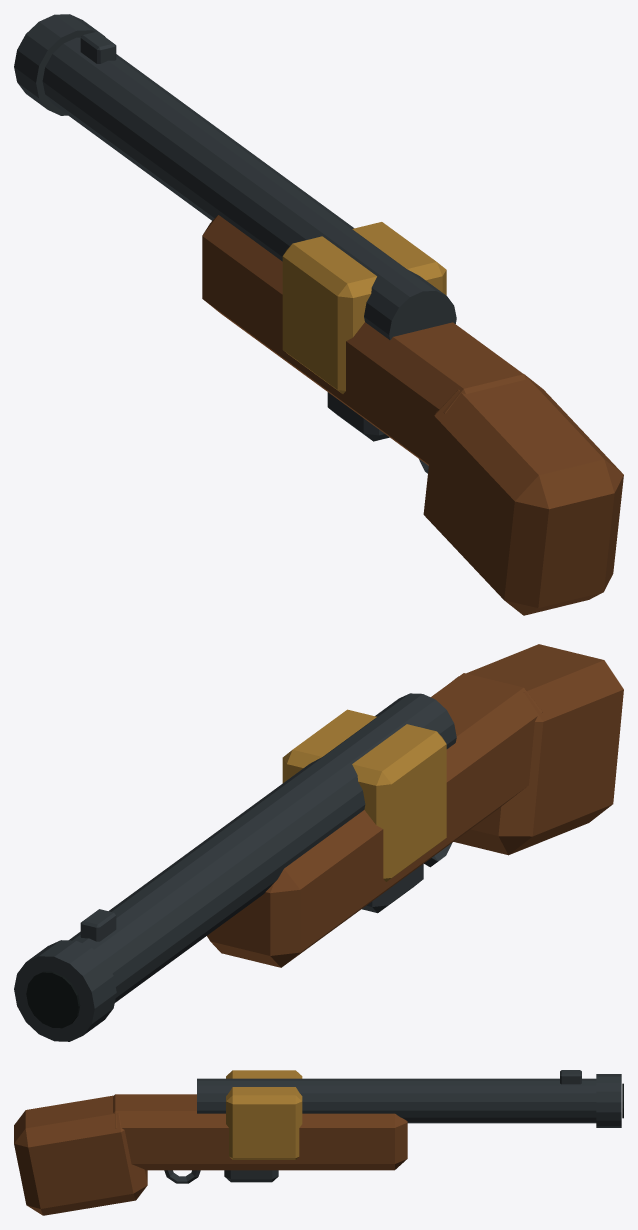
The model's file is Musket.glb.
3 views of the same model, one above another, from view 1: azimuth 30°, elevation 25°; view 2: azimuth 150°, elevation 25°; view 3: azimuth 270°, elevation 25° (orthographic). The views are drawn at different scales.
Parts seen in each view (by area): view 1: geometry_0; view 2: geometry_0; view 3: geometry_0.
Boxes of the visible parts, left/top/right/bottom form: geometry_0: left=14, top=14, right=623, bottom=615; geometry_0: left=14, top=644, right=623, bottom=1041; geometry_0: left=14, top=1070, right=623, bottom=1215.
Bounding box in the file's own units: 0.2 × 0.4086 × 1.68.
